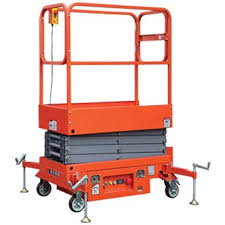Scissor Lift: (14, 2, 212, 225)
